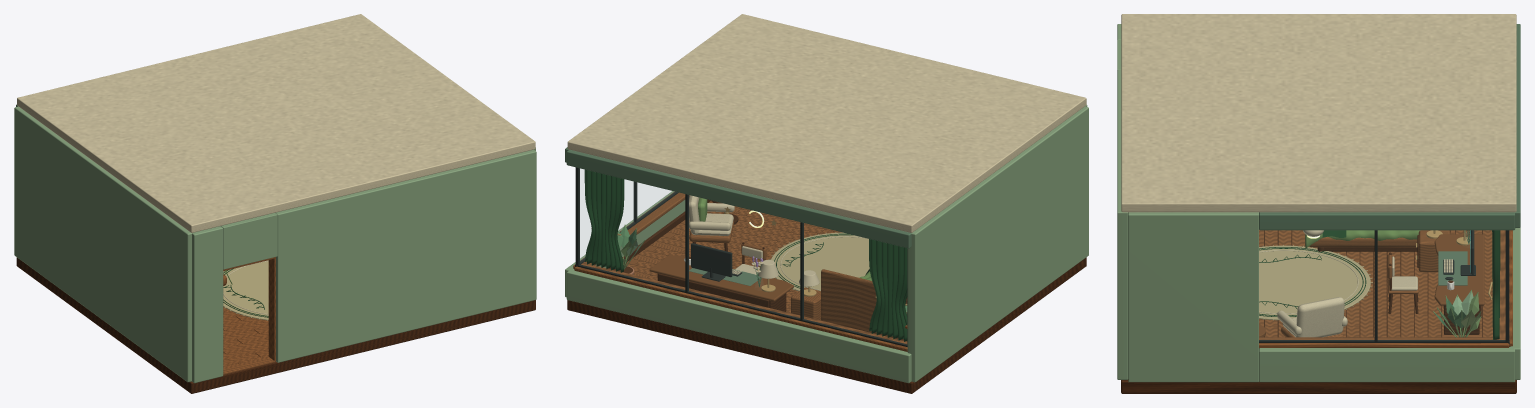
The model's file is dream_bedroom.glb.
The picture shows the model from 3 angles, left to right: view 1: azimuth 30°, elevation 25°; view 2: azimuth 150°, elevation 25°; view 3: azimuth 270°, elevation 25°; orthographic projection. The views are drawn at different scales.
Parts seen in each view (by area): view 1: CEILING_OPTIONAL_GEOMETRY, CUTAWAY_FRONT_WALL_GEOMETRY, WALL_WEST_GEOMETRY, FLOOR_GEOMETRY, FURN_RUG_GEOMETRY, PORTAL_ENTRY_GEOMETRY; view 2: CEILING_OPTIONAL_GEOMETRY, WALL_NORTH_GEOMETRY, WALL_WEST_GEOMETRY, FLOOR_GEOMETRY, FURN_DESK_GEOMETRY, FURN_RUG_GEOMETRY, FURN_BED_GEOMETRY, WALL_EAST_GEOMETRY, FURN_CHAIR_READING_GEOMETRY, FURN_NIGHTSTAND_GEOMETRY, PLANT_WINDOW_GEOMETRY, FURN_CHAIR_DESK_GEOMETRY; view 3: CEILING_OPTIONAL_GEOMETRY, WALL_EAST_GEOMETRY, FLOOR_GEOMETRY, FURN_RUG_GEOMETRY, WALL_NORTH_GEOMETRY, FURN_DESK_GEOMETRY, CUTAWAY_FRONT_WALL_GEOMETRY, FURN_BED_GEOMETRY, FURN_CHAIR_READING_GEOMETRY, PLANT_WINDOW_GEOMETRY, FURN_NIGHTSTAND_GEOMETRY, FURN_CHAIR_DESK_GEOMETRY.
Boxes of the visible parts, <box> form: CEILING_OPTIONAL_GEOMETRY: <box>17,14,535,232</box>; CUTAWAY_FRONT_WALL_GEOMETRY: <box>192,149,536,383</box>; WALL_WEST_GEOMETRY: <box>14,106,191,382</box>; FLOOR_GEOMETRY: <box>16,257,535,393</box>; FURN_RUG_GEOMETRY: <box>223,260,268,320</box>; PORTAL_ENTRY_GEOMETRY: <box>223,257,275,374</box>; CEILING_OPTIONAL_GEOMETRY: <box>567,14,1086,232</box>; WALL_NORTH_GEOMETRY: <box>566,149,911,383</box>; WALL_WEST_GEOMETRY: <box>905,106,1088,382</box>; FLOOR_GEOMETRY: <box>567,201,1086,393</box>; FURN_DESK_GEOMETRY: <box>649,243,793,311</box>; FURN_RUG_GEOMETRY: <box>769,232,869,291</box>; FURN_BED_GEOMETRY: <box>821,269,907,341</box>; WALL_EAST_GEOMETRY: <box>565,147,710,297</box>; FURN_CHAIR_READING_GEOMETRY: <box>689,195,734,251</box>; FURN_NIGHTSTAND_GEOMETRY: <box>791,270,820,320</box>; PLANT_WINDOW_GEOMETRY: <box>613,224,644,274</box>; FURN_CHAIR_DESK_GEOMETRY: <box>735,242,766,274</box>; CEILING_OPTIONAL_GEOMETRY: <box>1121,14,1516,238</box>; WALL_EAST_GEOMETRY: <box>1128,212,1515,382</box>; FLOOR_GEOMETRY: <box>1121,230,1516,393</box>; FURN_RUG_GEOMETRY: <box>1259,245,1372,320</box>; WALL_NORTH_GEOMETRY: <box>1488,24,1520,379</box>; FURN_DESK_GEOMETRY: <box>1434,230,1484,337</box>; CUTAWAY_FRONT_WALL_GEOMETRY: <box>1117,24,1128,379</box>; FURN_BED_GEOMETRY: <box>1305,230,1450,251</box>; FURN_CHAIR_READING_GEOMETRY: <box>1277,297,1347,337</box>; PLANT_WINDOW_GEOMETRY: <box>1433,290,1481,337</box>; FURN_NIGHTSTAND_GEOMETRY: <box>1416,230,1450,272</box>; FURN_CHAIR_DESK_GEOMETRY: <box>1387,252,1418,313</box>.
Size of what is drawn, in the model's own units: 8.4 by 3.86 by 7.4.
Materials: 27 (6 with a texture image).
